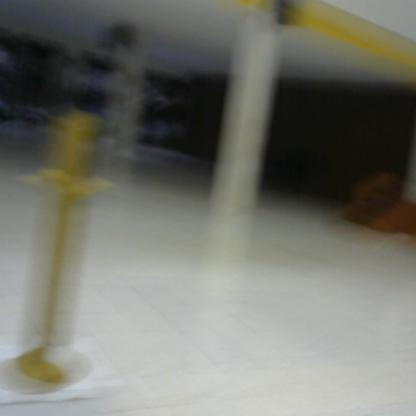pole: (11, 103, 121, 391)
